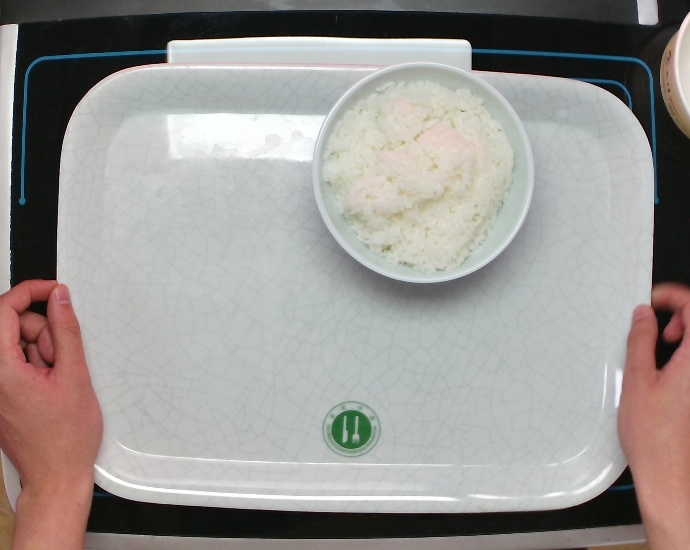JYsf-Fan_Wan: (309, 58, 538, 288)
